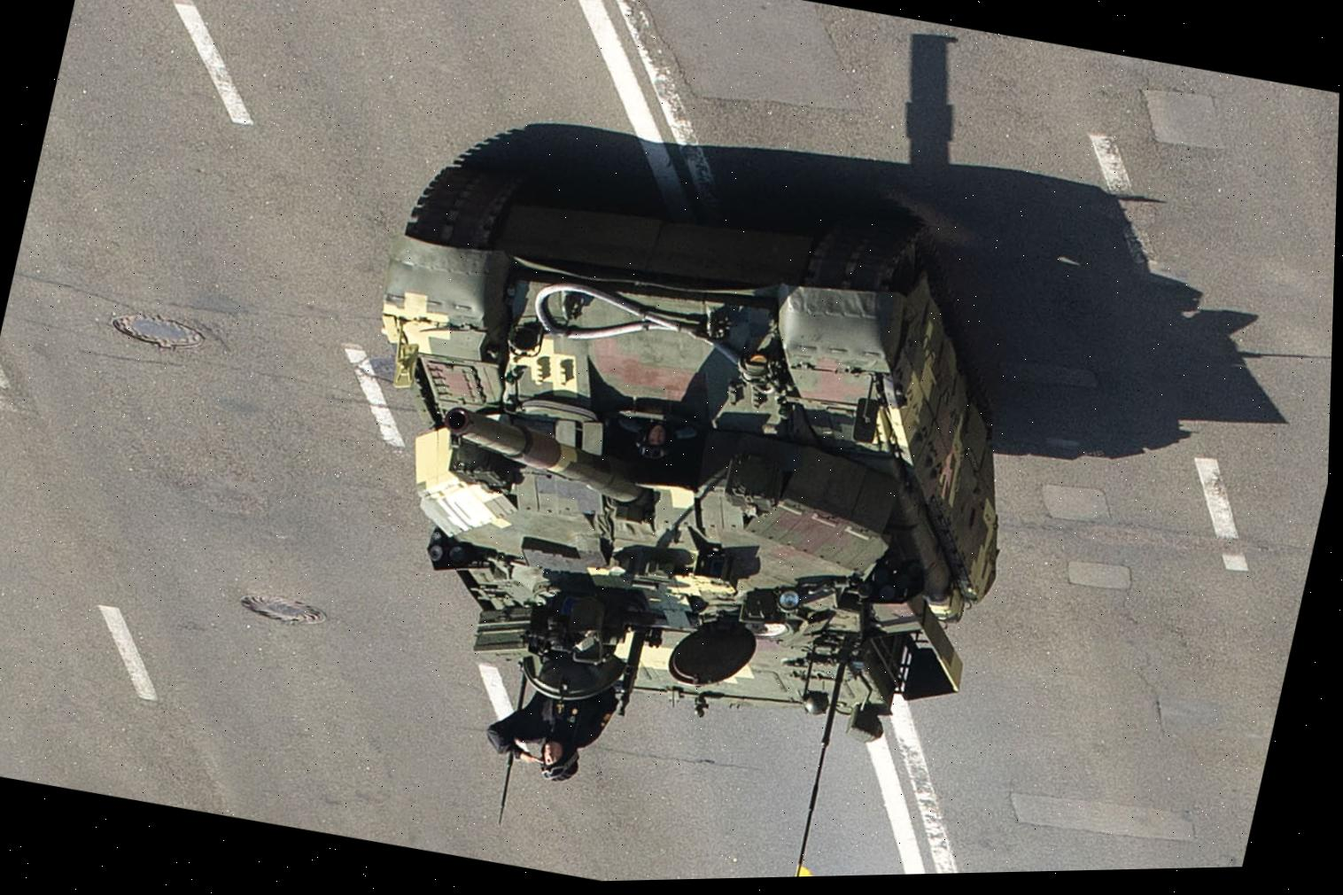tank: (253, 97, 1089, 889)
